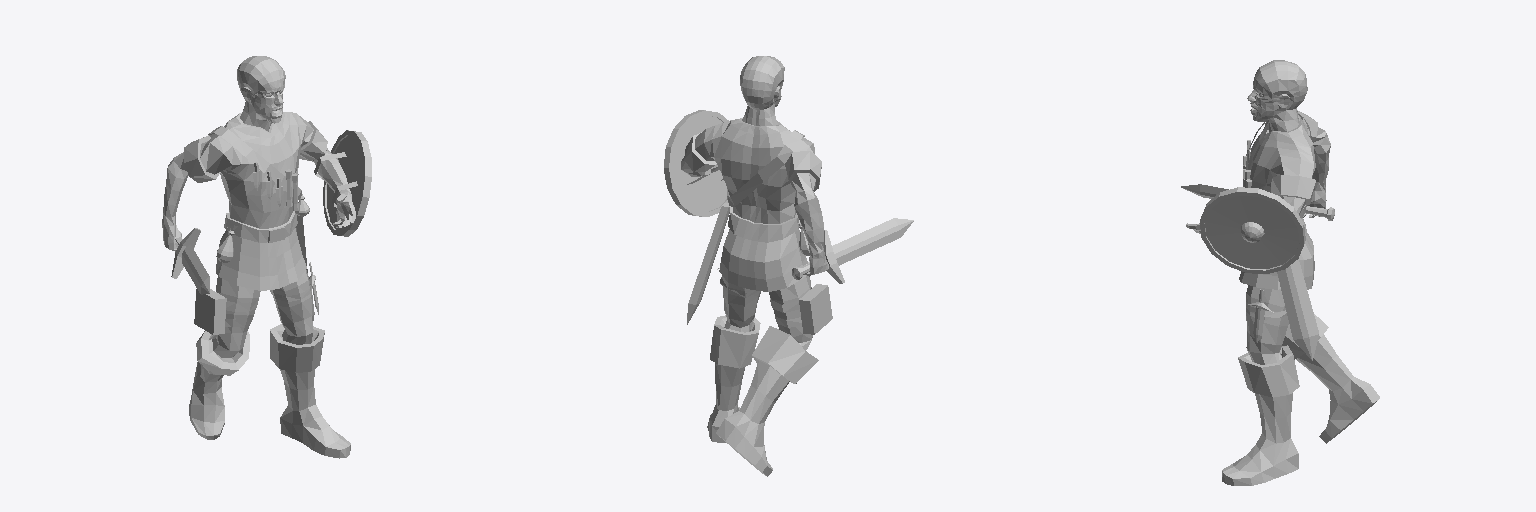
File: char_anim_000254.obj
3 views of the same model, side by side, from view 1: azimuth 30°, elevation 25°; view 2: azimuth 150°, elevation 25°; view 3: azimuth 270°, elevation 25° (orthographic).
Visible parts, largest first — view 1: Body.001, Shield, Funda.001_LegBag, Sword, Bandolera; view 2: Body.001, Shield, Sword, Funda.001_LegBag, Sheat, Bandolera; view 3: Body.001, Shield, Sheat, Sword, LegKnife.
Part boxes in pixels (x1,y1,x2,y2): Body.001: (162, 56, 355, 458); Shield: (314, 130, 371, 236); Funda.001_LegBag: (194, 289, 258, 334); Sword: (171, 228, 209, 294); Bandolera: (208, 126, 301, 200); Body.001: (681, 56, 828, 476); Shield: (664, 110, 729, 216); Sword: (792, 218, 913, 283); Funda.001_LegBag: (770, 284, 832, 334); Sheat: (687, 203, 729, 324); Bandolera: (727, 130, 804, 206); Body.001: (1186, 60, 1379, 485); Shield: (1200, 187, 1305, 273); Sheat: (1277, 259, 1318, 360); Sword: (1181, 184, 1334, 220); LegKnife: (1246, 289, 1286, 342).
Bounding box in the file's own units: 1.19 × 2.32 × 1.08.